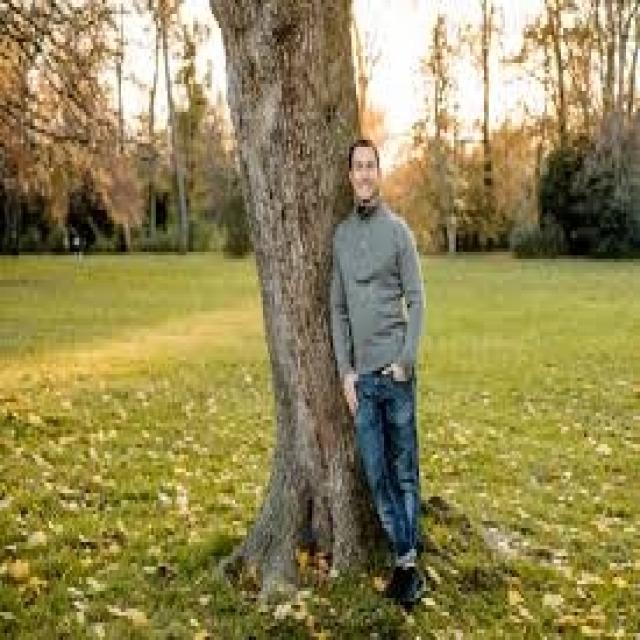walking: (324, 140, 456, 608)
